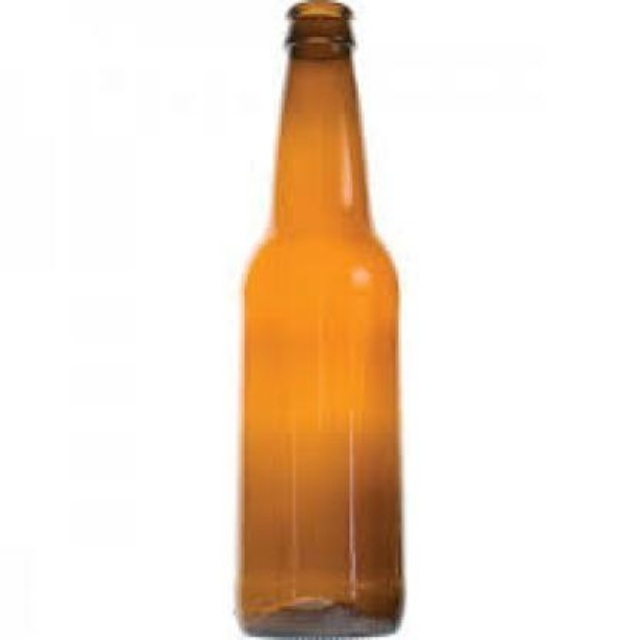trash: (240, 0, 402, 635)
